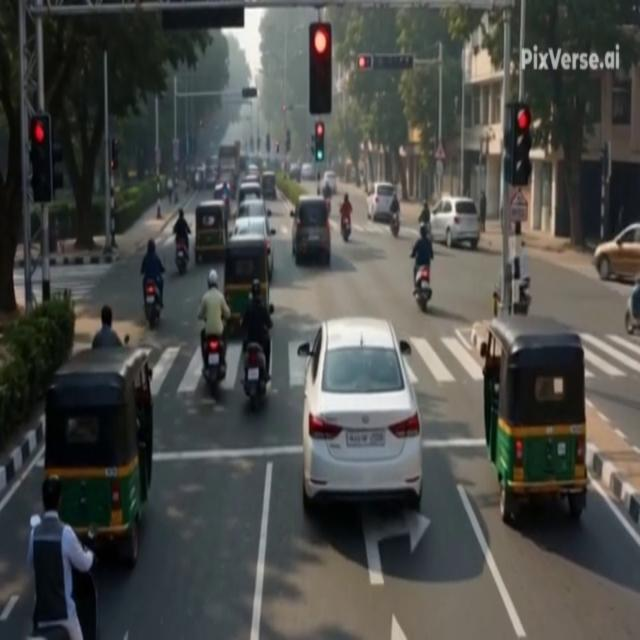car: (298, 318, 422, 513), (290, 196, 330, 265), (232, 216, 275, 279), (430, 197, 480, 249), (593, 224, 639, 279), (367, 183, 395, 223), (236, 200, 271, 218), (238, 183, 262, 206), (217, 171, 236, 198), (261, 171, 277, 199), (323, 171, 337, 194), (301, 163, 315, 181), (289, 163, 300, 182), (241, 175, 259, 184), (247, 164, 259, 175)
scooty: (73, 569, 99, 639), (243, 343, 267, 409), (202, 336, 226, 394), (414, 266, 432, 312), (144, 280, 161, 328), (625, 284, 639, 335), (514, 279, 531, 315), (175, 239, 188, 275), (625, 309, 639, 335), (341, 218, 351, 242), (390, 213, 399, 238), (325, 198, 331, 215)
traffic signal: (505, 103, 532, 186), (309, 23, 332, 115), (30, 114, 53, 203), (357, 54, 413, 71), (372, 55, 413, 71), (315, 121, 324, 161), (110, 138, 120, 172), (358, 55, 372, 70), (241, 87, 257, 100), (310, 133, 315, 156), (286, 130, 290, 152), (266, 134, 270, 153), (256, 136, 260, 151), (275, 142, 279, 153), (199, 120, 203, 127)
truck: (218, 143, 240, 176)
